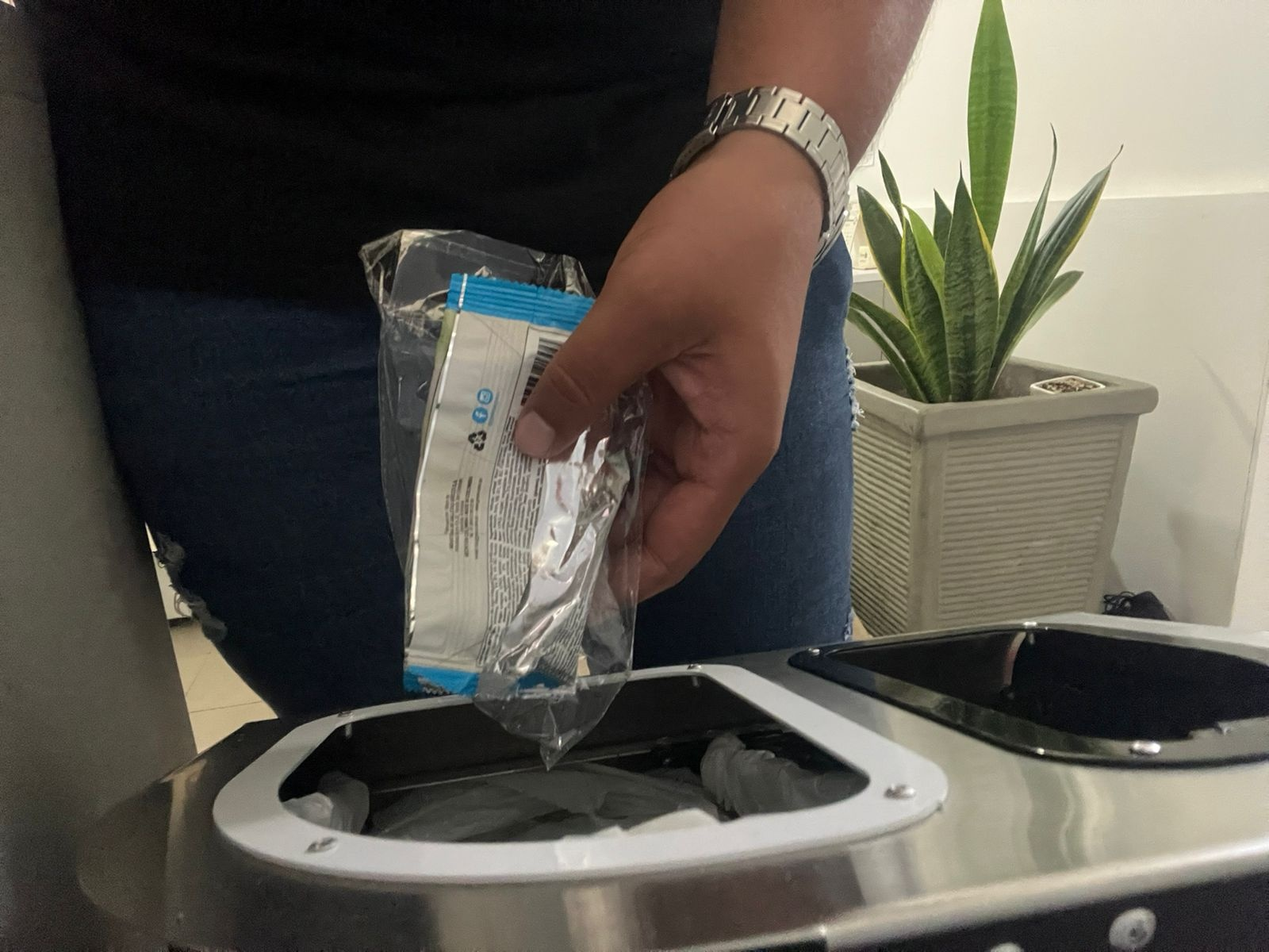Plastico: (362, 227, 648, 770)
